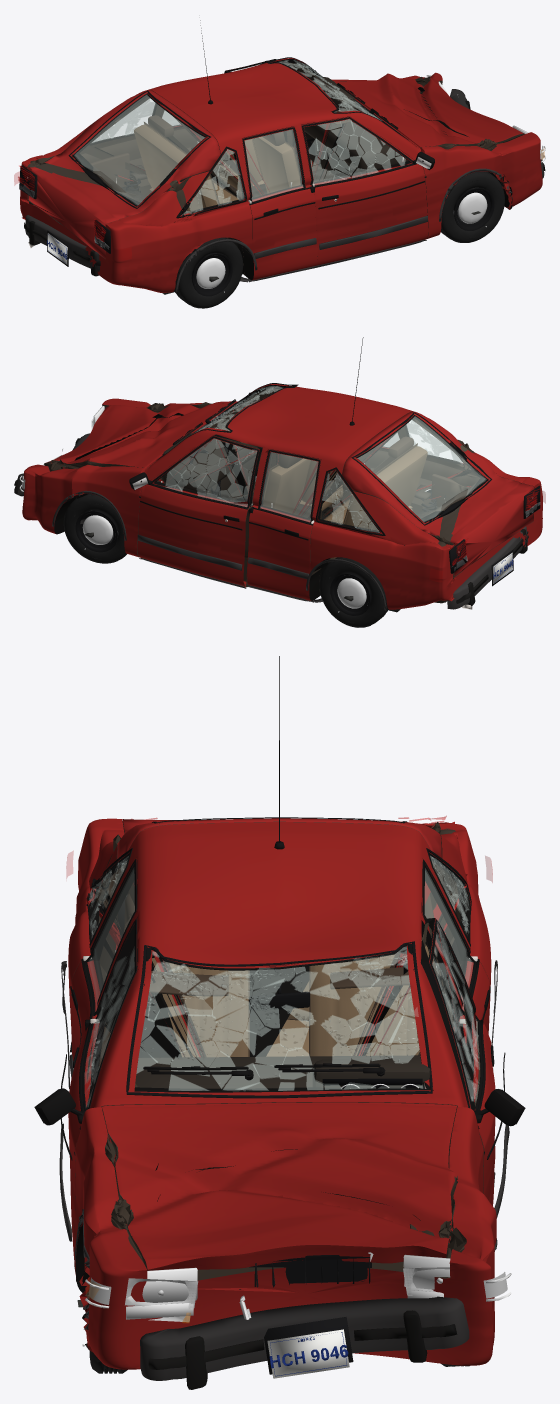
Rendered from hatchback85_front_d1_lod1.glb.
The picture shows the model from 3 angles, top to bottom: view 1: azimuth 30°, elevation 25°; view 2: azimuth 150°, elevation 25°; view 3: azimuth 270°, elevation 25°; orthographic projection. The views are drawn at different scales.
Parts seen in each view (by area): view 1: Body, Interior, Hatch, Door_FR, Glass_Hatch, Hood, Door_RR, Glass, Wheel_FR_mesh, Wheel_RR_mesh, Glass_FR, Glass_RR (+7 smaller); view 2: Body, Interior, Hatch, Door_FL, Glass_Hatch, Hood, Door_RL, Glass_FL, Wheel_RL_mesh, Wheel_FL_mesh, Glass, Glass_RL (+7 smaller); view 3: Body, Hood, Glass, Interior, Bumper_F, Ends, Door_FL, Trim, Door_FR, Trim_FL, Trim_FR, Glass_FL (+7 smaller).
Boxes of the visible parts, x1,y1,x2,y2 form: Body: [20, 58, 542, 292]; Interior: [91, 77, 402, 211]; Hatch: [27, 89, 220, 258]; Door_FR: [301, 116, 428, 265]; Glass_Hatch: [68, 90, 210, 208]; Hood: [334, 73, 524, 148]; Door_RR: [242, 126, 317, 280]; Glass: [92, 57, 408, 217]; Wheel_FR_mesh: [441, 171, 504, 242]; Wheel_RR_mesh: [174, 237, 243, 308]; Glass_FR: [301, 117, 411, 186]; Glass_RR: [242, 129, 305, 201]; Body: [22, 384, 542, 609]; Interior: [161, 410, 468, 559]; Hatch: [341, 411, 534, 576]; Door_FL: [137, 434, 262, 587]; Glass_Hatch: [351, 412, 491, 525]; Hood: [44, 403, 233, 468]; Door_RL: [246, 449, 320, 600]; Glass_FL: [154, 435, 259, 508]; Wheel_RL_mesh: [319, 557, 388, 627]; Wheel_FL_mesh: [63, 493, 126, 563]; Glass: [156, 383, 462, 534]; Glass_RL: [258, 452, 320, 522]; Body: [68, 818, 496, 1369]; Hood: [101, 1102, 457, 1270]; Glass: [87, 853, 469, 1098]; Interior: [123, 893, 435, 1088]; Bumper_F: [140, 1296, 469, 1389]; Ends: [85, 1252, 511, 1378]; Door_FL: [420, 918, 495, 1205]; Trim: [61, 656, 497, 1330]; Door_FR: [68, 917, 138, 1262]; Trim_FL: [429, 919, 525, 1218]; Trim_FR: [34, 918, 136, 1281]; Glass_FL: [427, 919, 479, 1101].
Bounding box in the file's own units: 4.11 × 2.14 × 1.93.
Materials: 33 (5 with a texture image).
